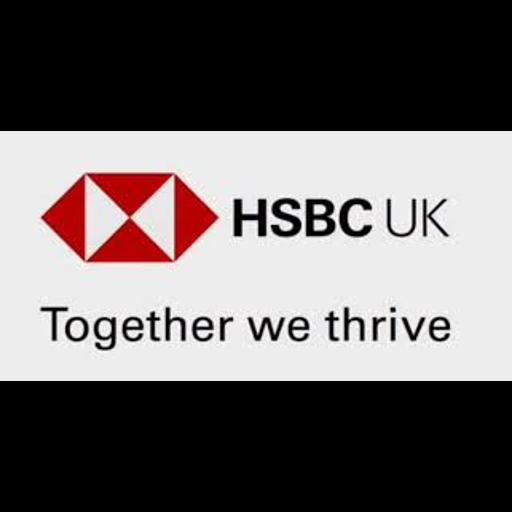HSBC Bank: (0, 131, 512, 381)
